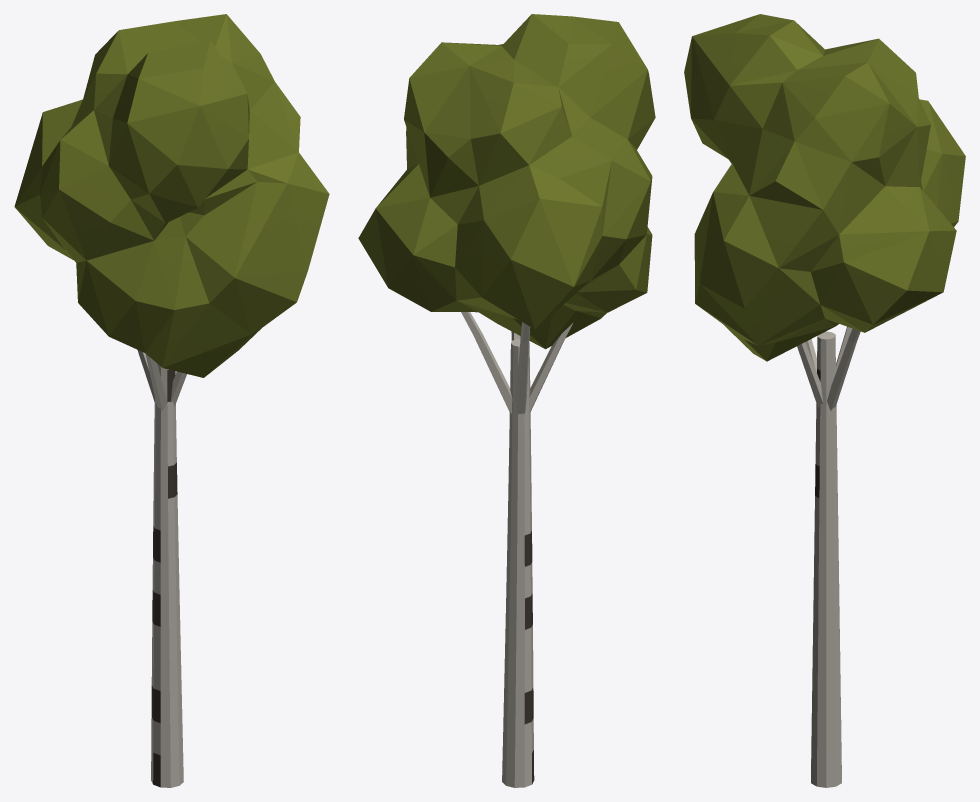
File: Birch_A.glb
The picture shows the model from 3 angles, left to right: view 1: azimuth 30°, elevation 25°; view 2: azimuth 150°, elevation 25°; view 3: azimuth 270°, elevation 25°; orthographic projection.
Parts seen in each view (by area): view 1: Birch_A_LOD0; view 2: Birch_A_LOD0; view 3: Birch_A_LOD0.
Boxes of the visible parts, x1,y1,x2,y2 form: Birch_A_LOD0: (14,14,329,787); Birch_A_LOD0: (358,14,655,787); Birch_A_LOD0: (684,14,965,787).
Size of what is drawn, in the model's own units: 2.59 by 7.69 by 2.61.
